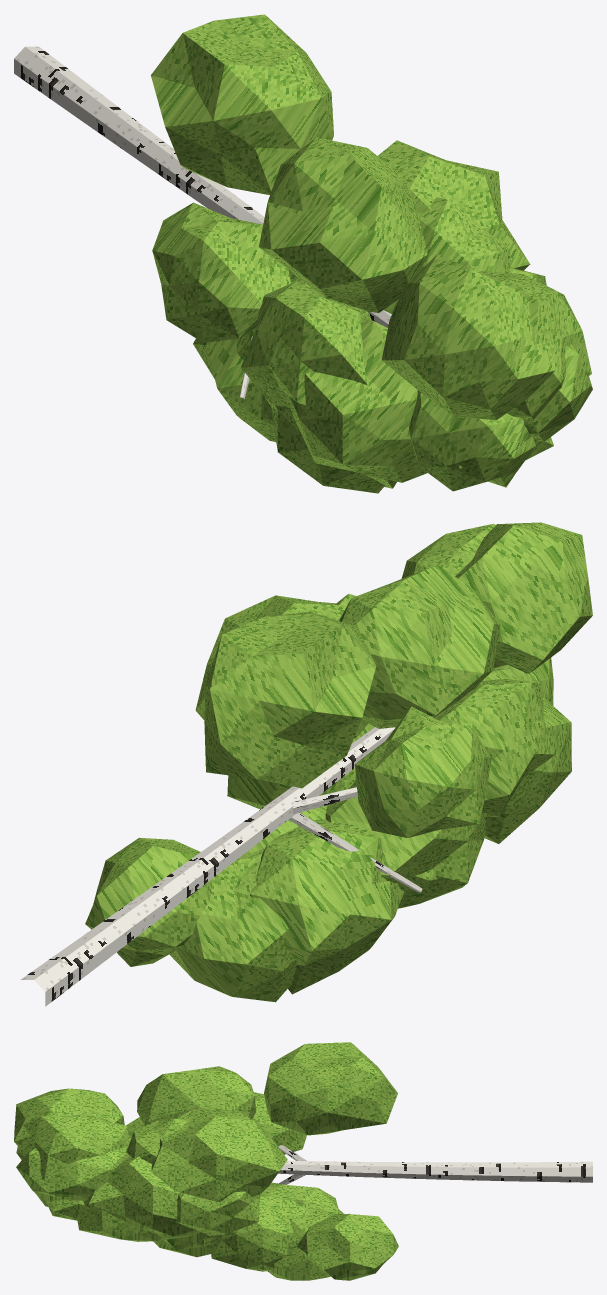
Rendered from leaves.glb.
The picture shows the model from 3 angles, top to bottom: view 1: azimuth 30°, elevation 25°; view 2: azimuth 150°, elevation 25°; view 3: azimuth 270°, elevation 25°; orthographic projection. The views are drawn at different scales.
Parts seen in each view (by area): view 1: leaves.029; view 2: leaves.029; view 3: leaves.029.
Boxes of the visible parts, box(x1,y1,x2,y2) form: leaves.029: box(14, 14, 592, 493); leaves.029: box(20, 522, 592, 1006); leaves.029: box(14, 1042, 592, 1280).
Bounding box in the file's own units: 3.5 × 4.16 × 10.22.
2 materials, 2 textured.
